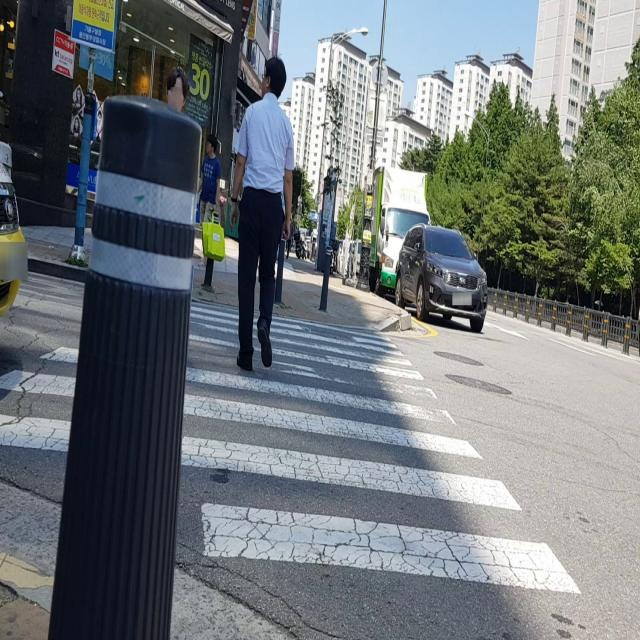횡단보도: (0, 269, 584, 598)
